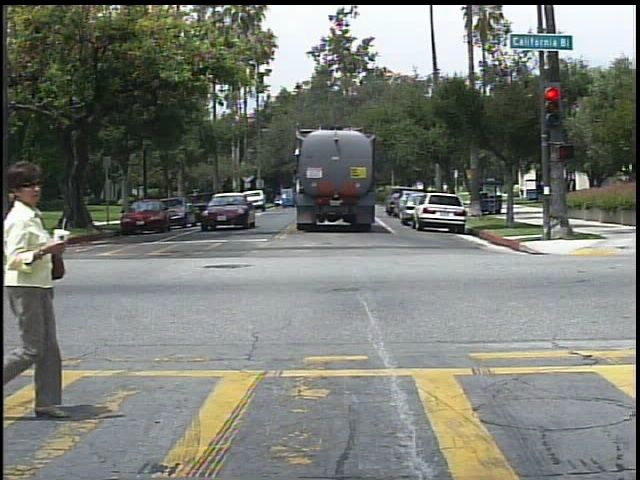person: (7, 152, 82, 424), (564, 172, 583, 204), (517, 180, 530, 200)
